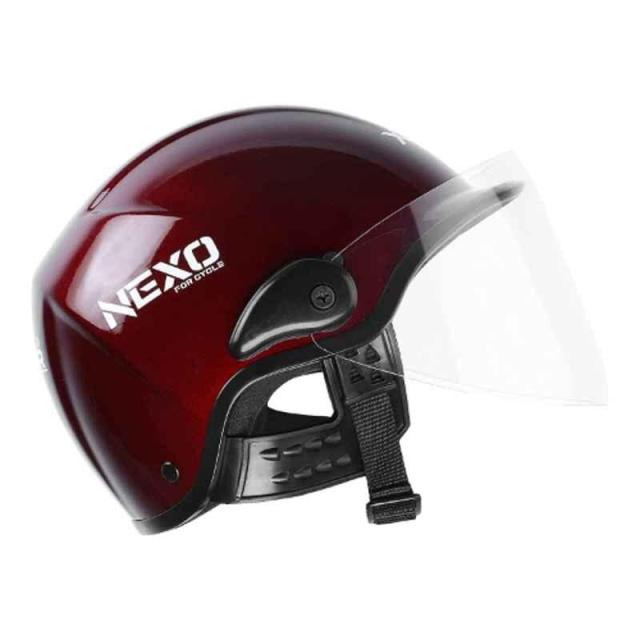helmet: (22, 91, 626, 542)
